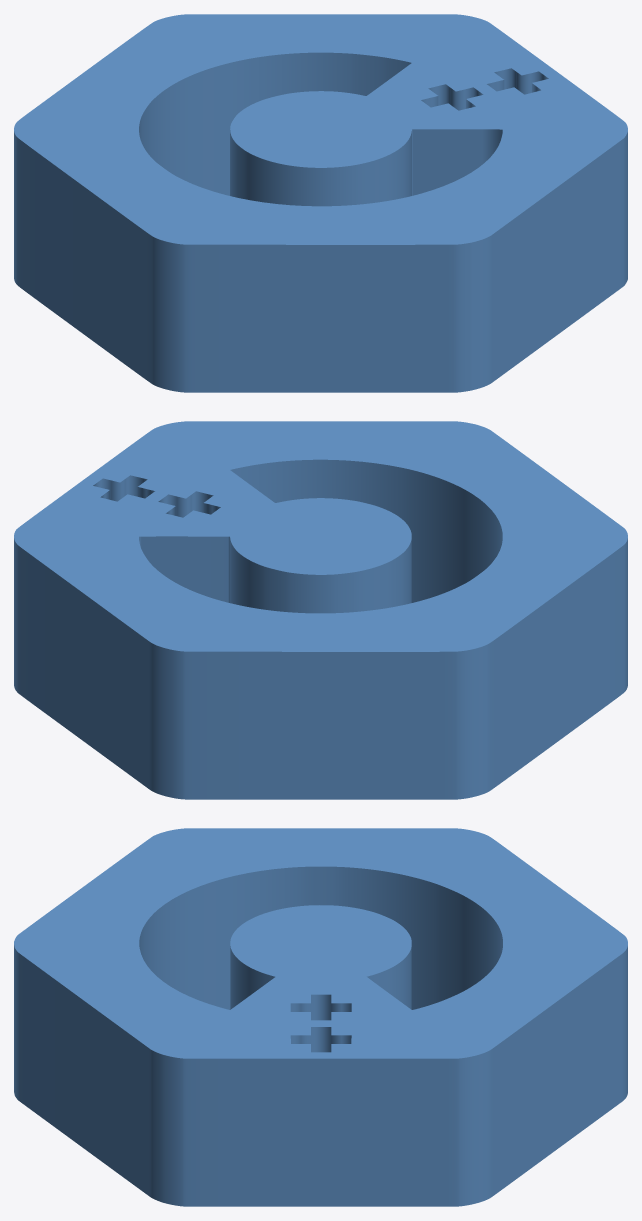
The picture shows the model from 3 angles, top to bottom: view 1: azimuth 30°, elevation 25°; view 2: azimuth 150°, elevation 25°; view 3: azimuth 270°, elevation 25°; orthographic projection.
Parts seen in each view (by area): view 1: path48.001; view 2: path48.001; view 3: path48.001.
Boxes of the visible parts, x1,y1,x2,y2 form: path48.001: (14, 14, 627, 392); path48.001: (14, 421, 627, 799); path48.001: (14, 828, 627, 1206).
Bounding box in the file's own units: 185 × 55.5 × 209.
